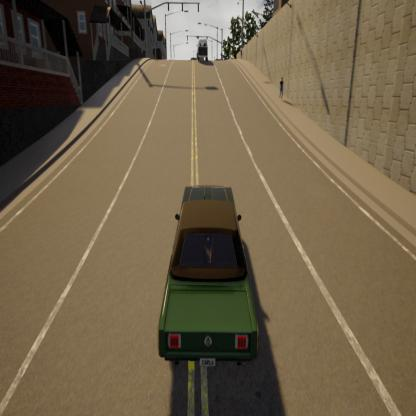Cars: (154, 157, 268, 396), (188, 29, 214, 71)
Pedestrian: (272, 61, 291, 124)
